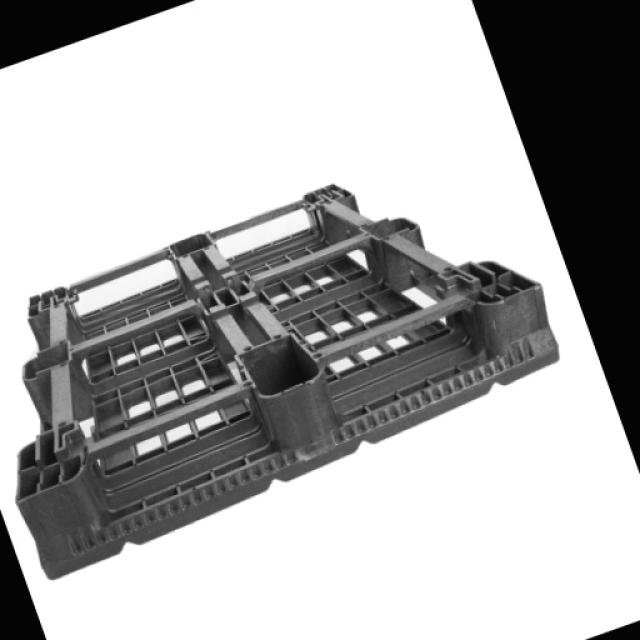non-igps: (5, 176, 565, 590)
